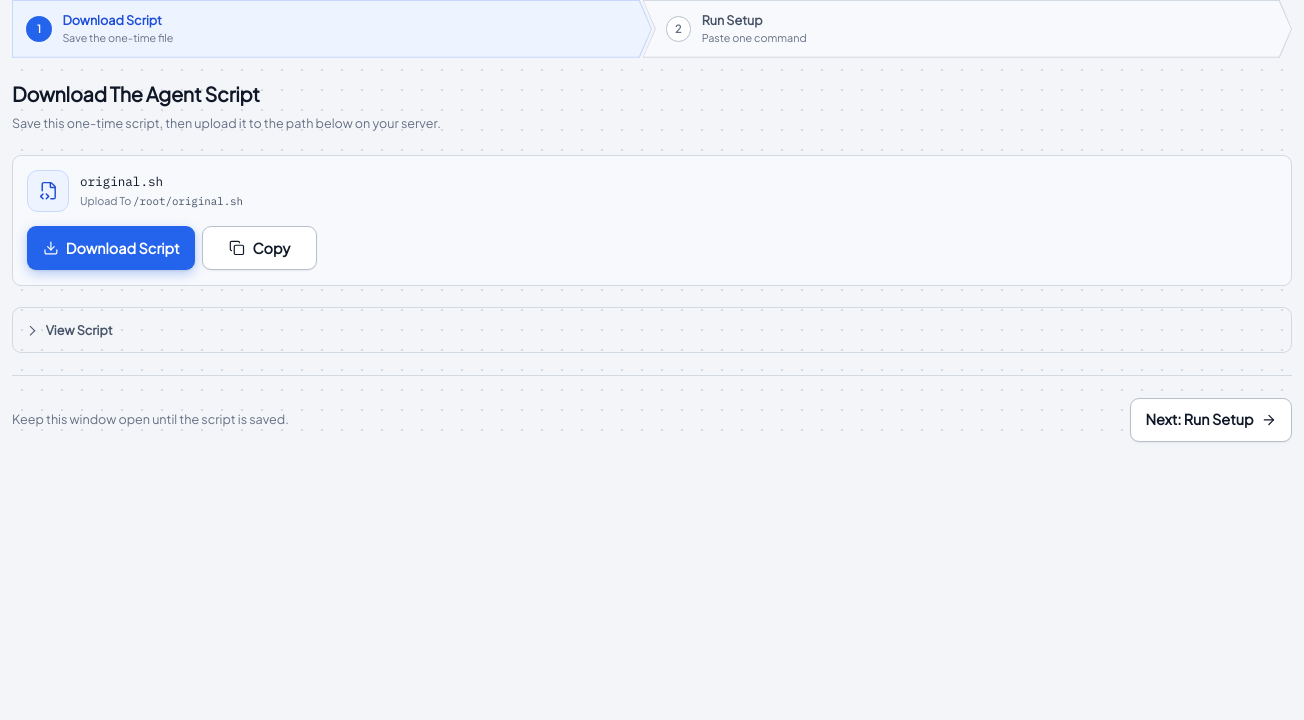
Test: preserves failure feedback and the exact copied setup command with short labels
Click the button "Next: Run Setup": (1211, 420) x1=1130 y1=398 x2=1292 y2=442
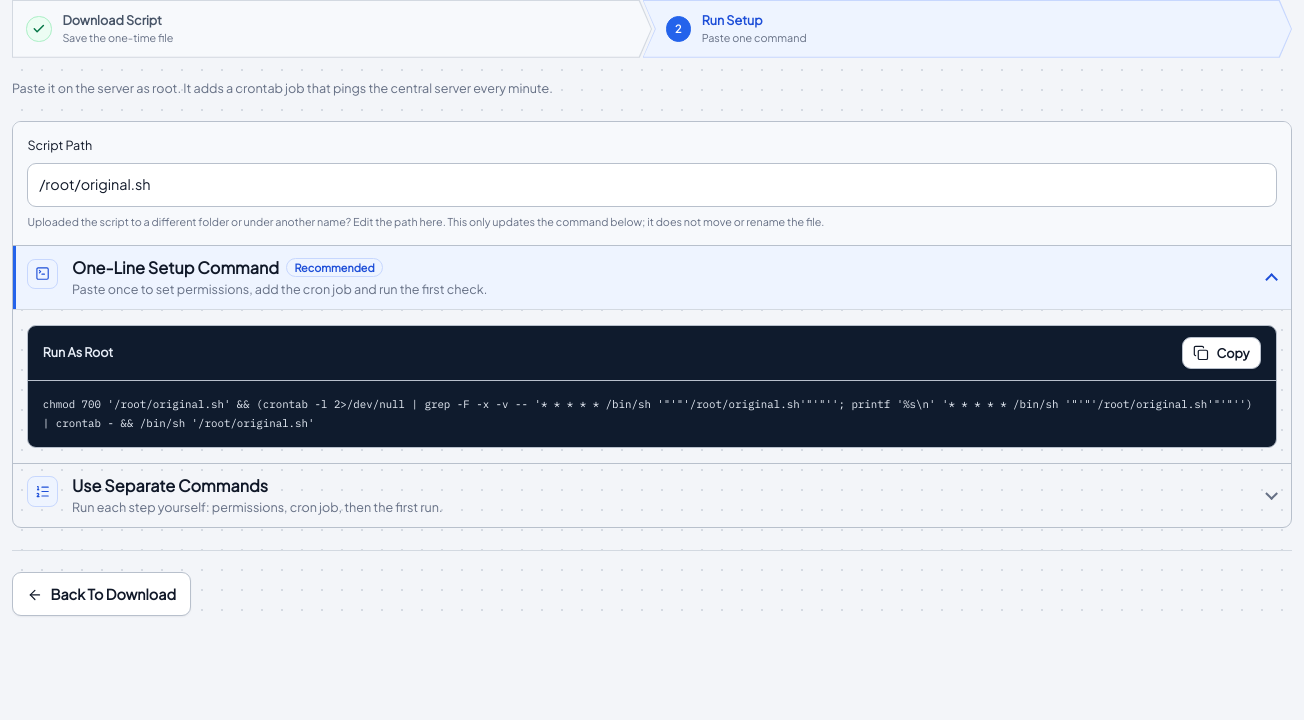
Click the button with aria-label "Copy Setup Command": (1221, 353) x1=1182 y1=337 x2=1261 y2=369
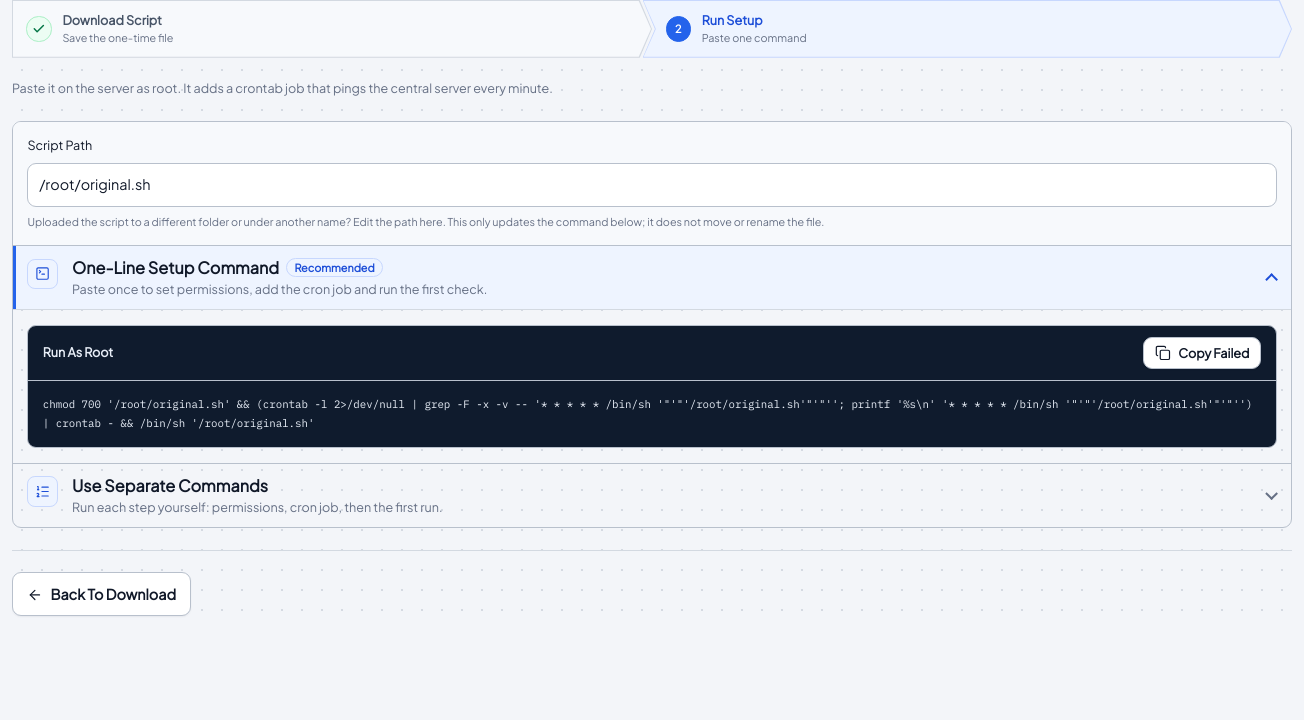
Now the button "Copy Failed" is shown, box x1=1143 y1=337 x2=1261 y2=369
